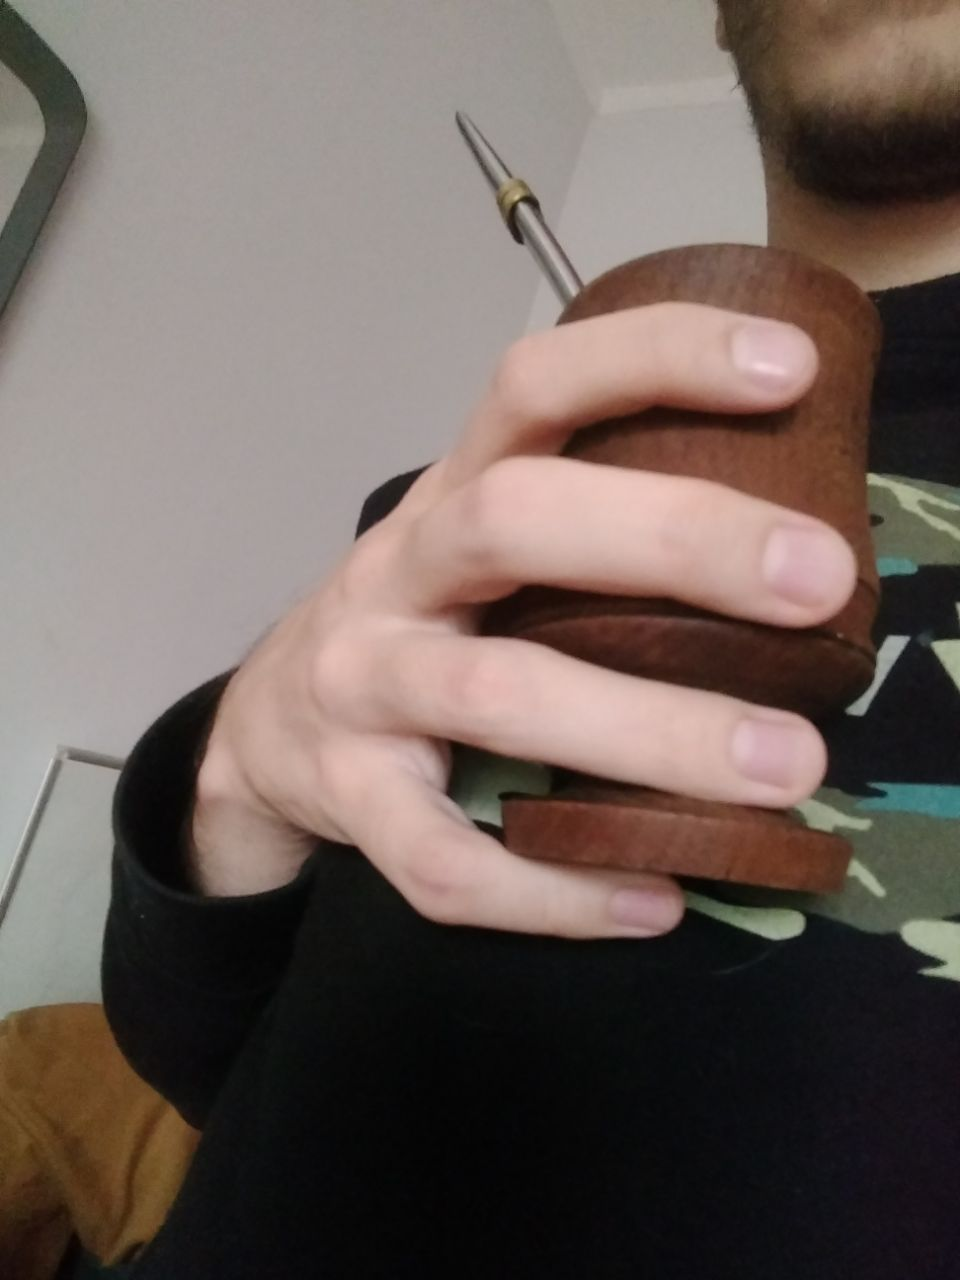madera: (449, 103, 887, 898)
mate: (451, 105, 889, 900)
